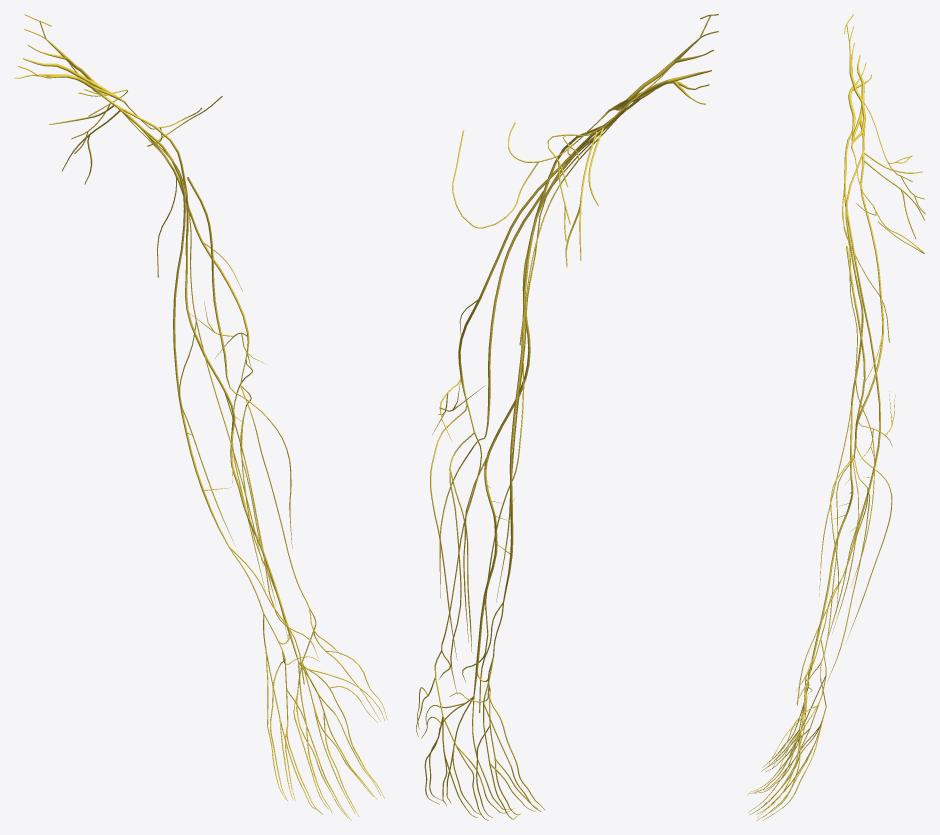
File: nerves.glb
3 views of the same model, side by side, from view 1: azimuth 30°, elevation 25°; view 2: azimuth 150°, elevation 25°; view 3: azimuth 270°, elevation 25° (orthographic). The views are drawn at different scales.
Parts seen in each view (by area): view 1: Median nerve.l.001, Ulnar nerve.l.001, Dorsal digital branches of radial nerve.l.001, Proper palmar digital branches of median nerve.l.001; view 2: Ulnar nerve.l.001, Median nerve.l.001, Radial nerve.l.001, Dorsal digital branches of radial nerve.l.001, Musculocutaneous nerve.l.001, Proper palmar digital branches of median nerve.l.001, Roots of brachial plexus.l.001, Suprascapular nerve.l.001, Superficial branch of radial nerve.l.001; view 3: Median nerve.l.001, Ulnar nerve.l.001, Dorsal digital branches of radial nerve.l.001, Proper palmar digital branches of median nerve.l.001, Radial nerve.l.001, Superficial branch of radial nerve.l.001, Musculocutaneous nerve.l.001, Roots of brachial plexus.l.001, Deep branch of radial nerve.l.001.
Part boxes in pixels (x1=…): Median nerve.l.001: x1=117, y1=105, x2=298, y2=661; Ulnar nerve.l.001: x1=114, y1=104, x2=264, y2=613; Dorsal digital branches of radial nerve.l.001: x1=293, y1=650, x2=387, y2=817; Proper palmar digital branches of median nerve.l.001: x1=306, y1=669, x2=384, y2=820; Ulnar nerve.l.001: x1=493, y1=110, x2=624, y2=656; Median nerve.l.001: x1=473, y1=125, x2=602, y2=696; Radial nerve.l.001: x1=458, y1=134, x2=592, y2=432; Dorsal digital branches of radial nerve.l.001: x1=416, y1=687, x2=510, y2=820; Musculocutaneous nerve.l.001: x1=485, y1=191, x2=543, y2=435; Proper palmar digital branches of median nerve.l.001: x1=421, y1=703, x2=514, y2=817; Roots of brachial plexus.l.001: x1=668, y1=14, x2=718, y2=104; Suprascapular nerve.l.001: x1=547, y1=68, x2=669, y2=241; Superficial branch of radial nerve.l.001: x1=427, y1=433, x2=481, y2=716; Median nerve.l.001: x1=806, y1=152, x2=863, y2=689; Ulnar nerve.l.001: x1=820, y1=139, x2=880, y2=638; Dorsal digital branches of radial nerve.l.001: x1=753, y1=705, x2=826, y2=820; Proper palmar digital branches of median nerve.l.001: x1=747, y1=700, x2=805, y2=820; Radial nerve.l.001: x1=854, y1=165, x2=883, y2=457; Superficial branch of radial nerve.l.001: x1=796, y1=458, x2=853, y2=706; Musculocutaneous nerve.l.001: x1=846, y1=246, x2=865, y2=451; Roots of brachial plexus.l.001: x1=844, y1=14, x2=871, y2=90; Deep branch of radial nerve.l.001: x1=827, y1=458, x2=870, y2=682.
Bounding box in the file's own units: 0.3207 × 0.803 × 0.1877.
